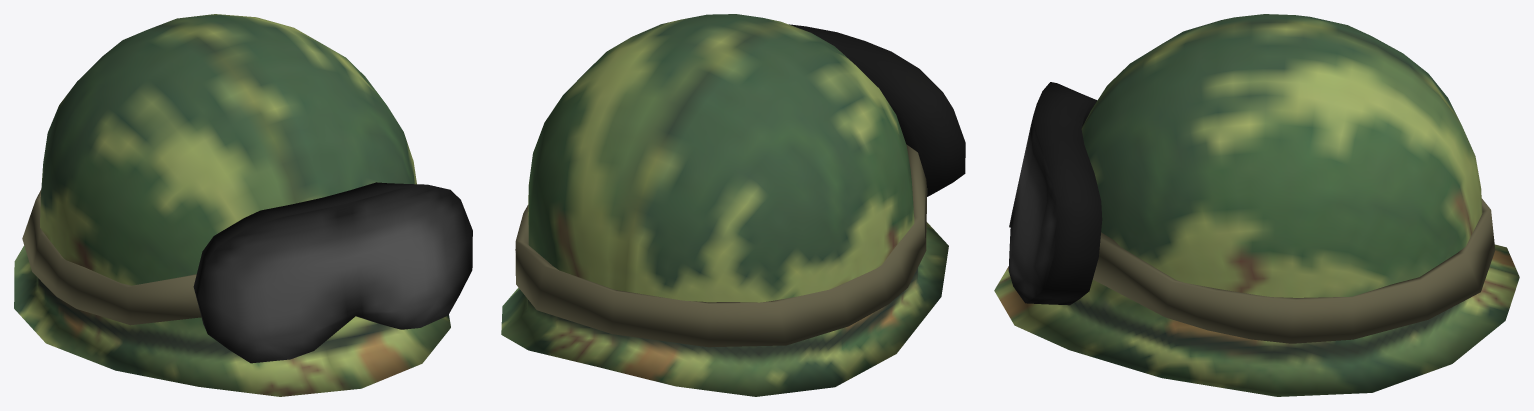
Rendered from M1HelmetGoggles_WorldItem.fbx.
3 renders of one model, left to right at view 1: azimuth 30°, elevation 25°; view 2: azimuth 150°, elevation 25°; view 3: azimuth 270°, elevation 25°, orthographic. The views are drawn at different scales.
Visible parts, largest first — view 1: Cube.002; view 2: Cube.002; view 3: Cube.002.
Boxes of the visible parts, x1,y1,x2,y2 form: Cube.002: (14,14,472,396); Cube.002: (501,14,965,396); Cube.002: (994,14,1519,396).
Size of the model in its own units: 0.3247 by 0.2372 by 0.4057.
